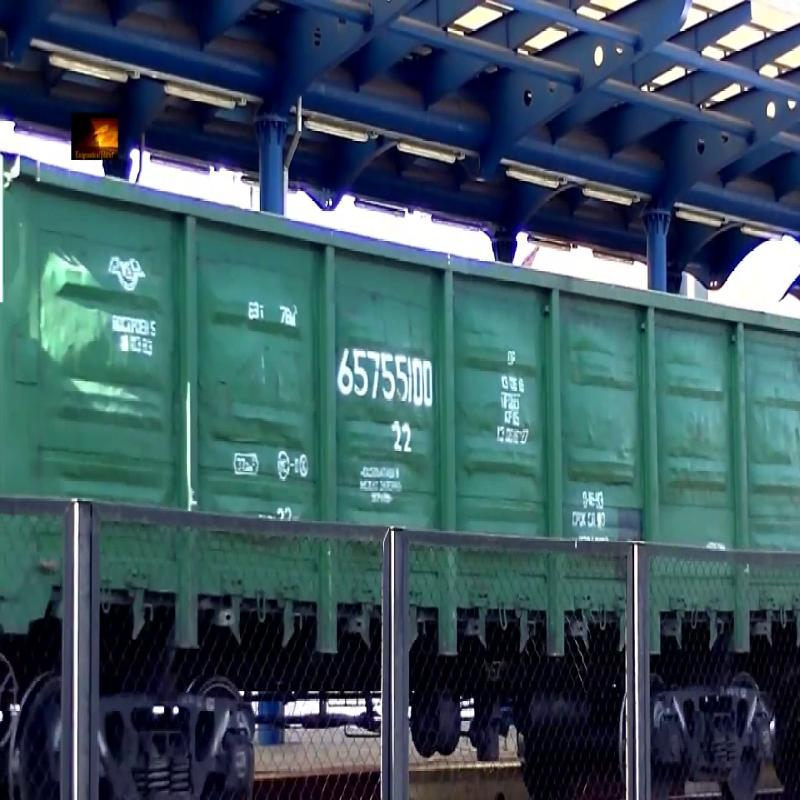train: (71, 47, 800, 771)
